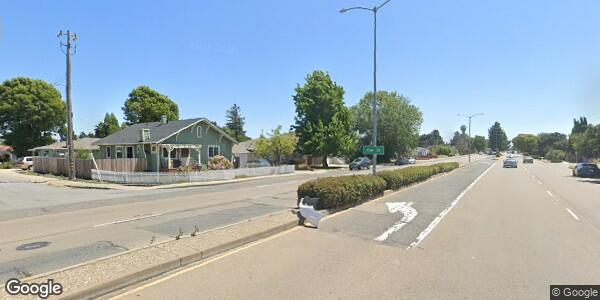Steel_Pole: (336, 1, 386, 189), (454, 109, 485, 161)
Wood_Pole: (55, 25, 80, 182)
